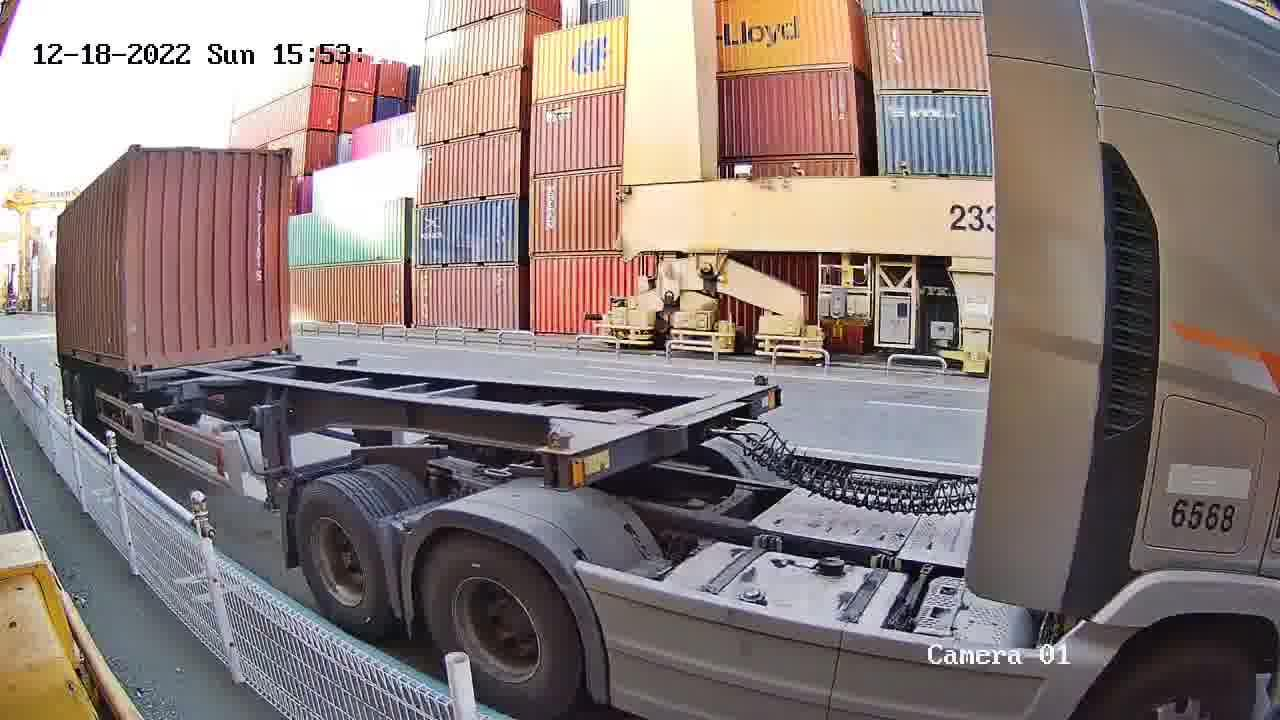Chassis: (131, 354, 304, 386)
Hole_L: (126, 345, 162, 374)
Hole_R: (256, 326, 293, 356)
Tire: (420, 541, 577, 716), (297, 485, 384, 623)
